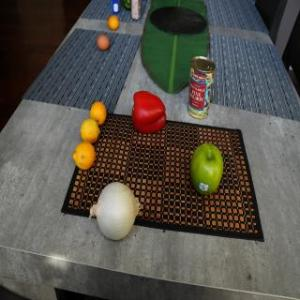bell_pepper: (132, 87, 166, 132)
egg: (98, 31, 112, 53)
onion: (88, 178, 140, 244)
